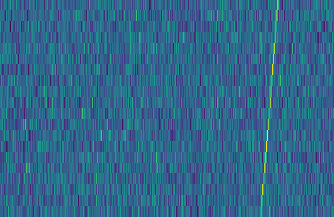signal: (258, 0, 285, 217)
